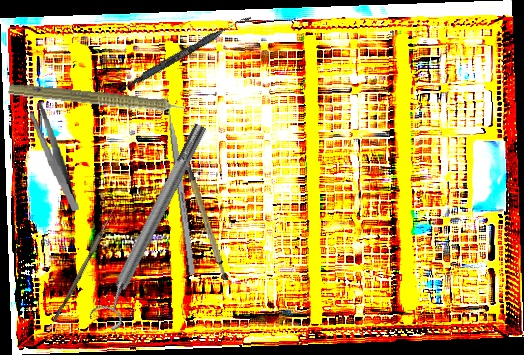Dressing Forceps: (28, 98, 80, 215)
Fixation Ring: (85, 118, 219, 333)
Handpiece: (7, 79, 202, 123)
Pusher: (162, 83, 196, 276)
Scalpel Handle: (182, 149, 230, 284)
Spatula Surgical: (112, 10, 252, 99)
Surgical Spoon: (52, 200, 120, 324)
